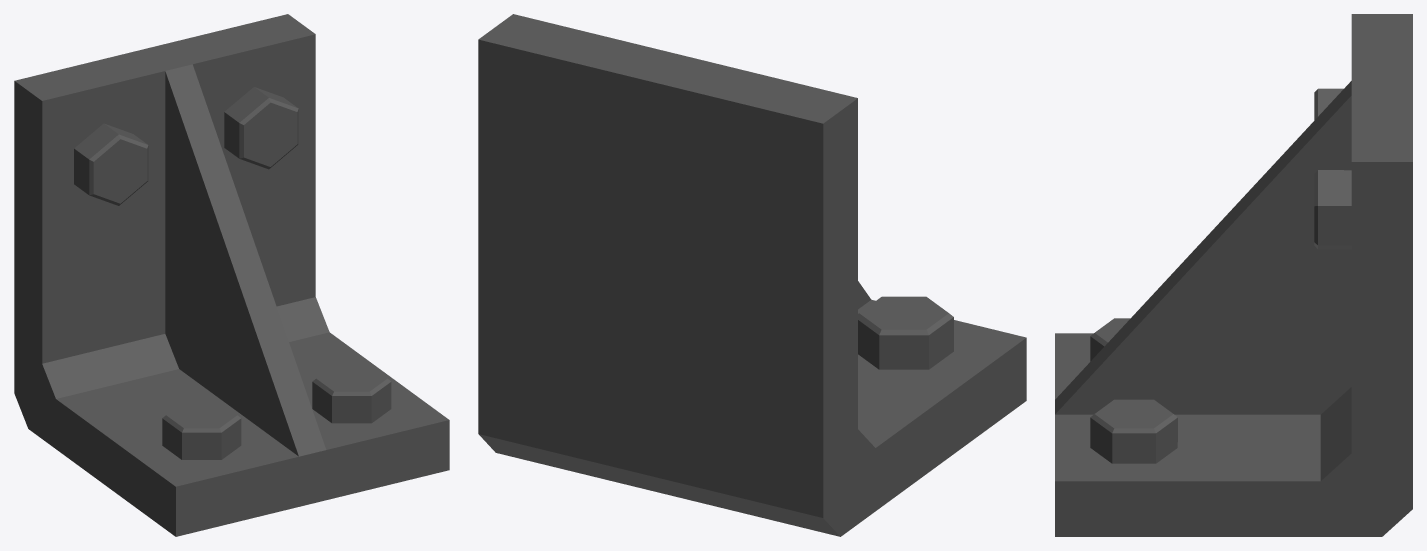
The model's file is tomegu.fbx.
3 renders of one model, left to right at view 1: azimuth 30°, elevation 25°; view 2: azimuth 150°, elevation 25°; view 3: azimuth 270°, elevation 25°, orthographic. The views are drawn at different scales.
Visible parts, largest first — view 1: tomegu; view 2: tomegu; view 3: tomegu.
Boxes of the visible parts, x1=… form: tomegu: x1=14, y1=14, x2=449, y2=536; tomegu: x1=478, y1=14, x2=1026, y2=536; tomegu: x1=1055, y1=14, x2=1412, y2=536.
Bounding box in the file's own units: 0.2852 × 0.3366 × 0.2913.
